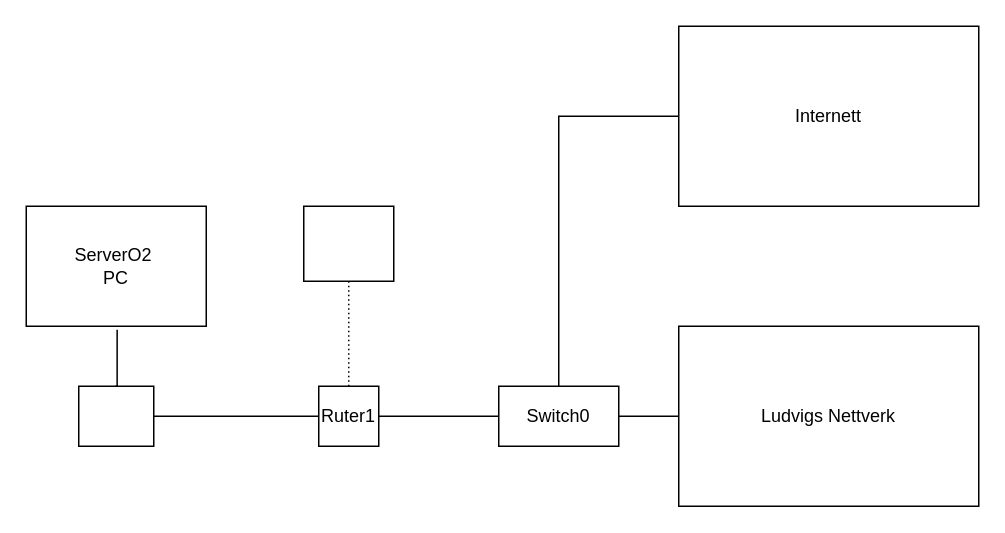
This 1005x533 diagram has some shape labels left out. Here are the shapes that lost their labels. From the top down, the centre of each, then its label:
(348,243): Klient PC
(115,415): Switch1
